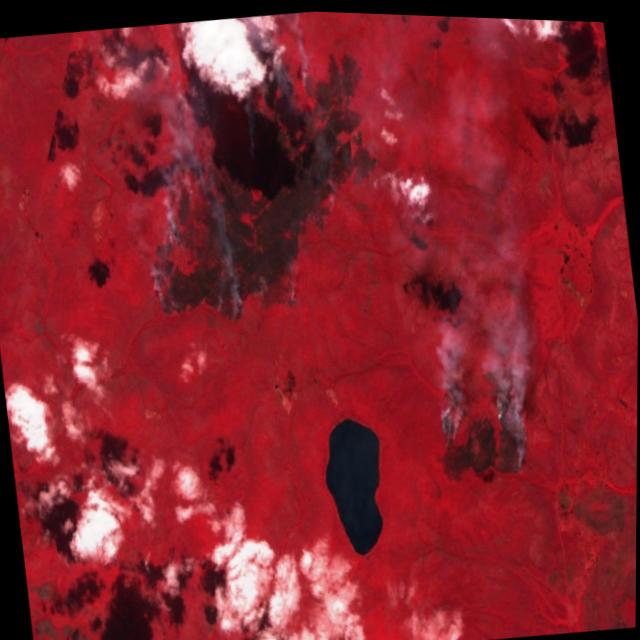fire: (117, 39, 399, 344), (423, 365, 537, 488)
